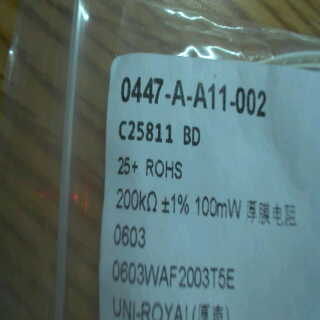200kR: (113, 182, 163, 217)
